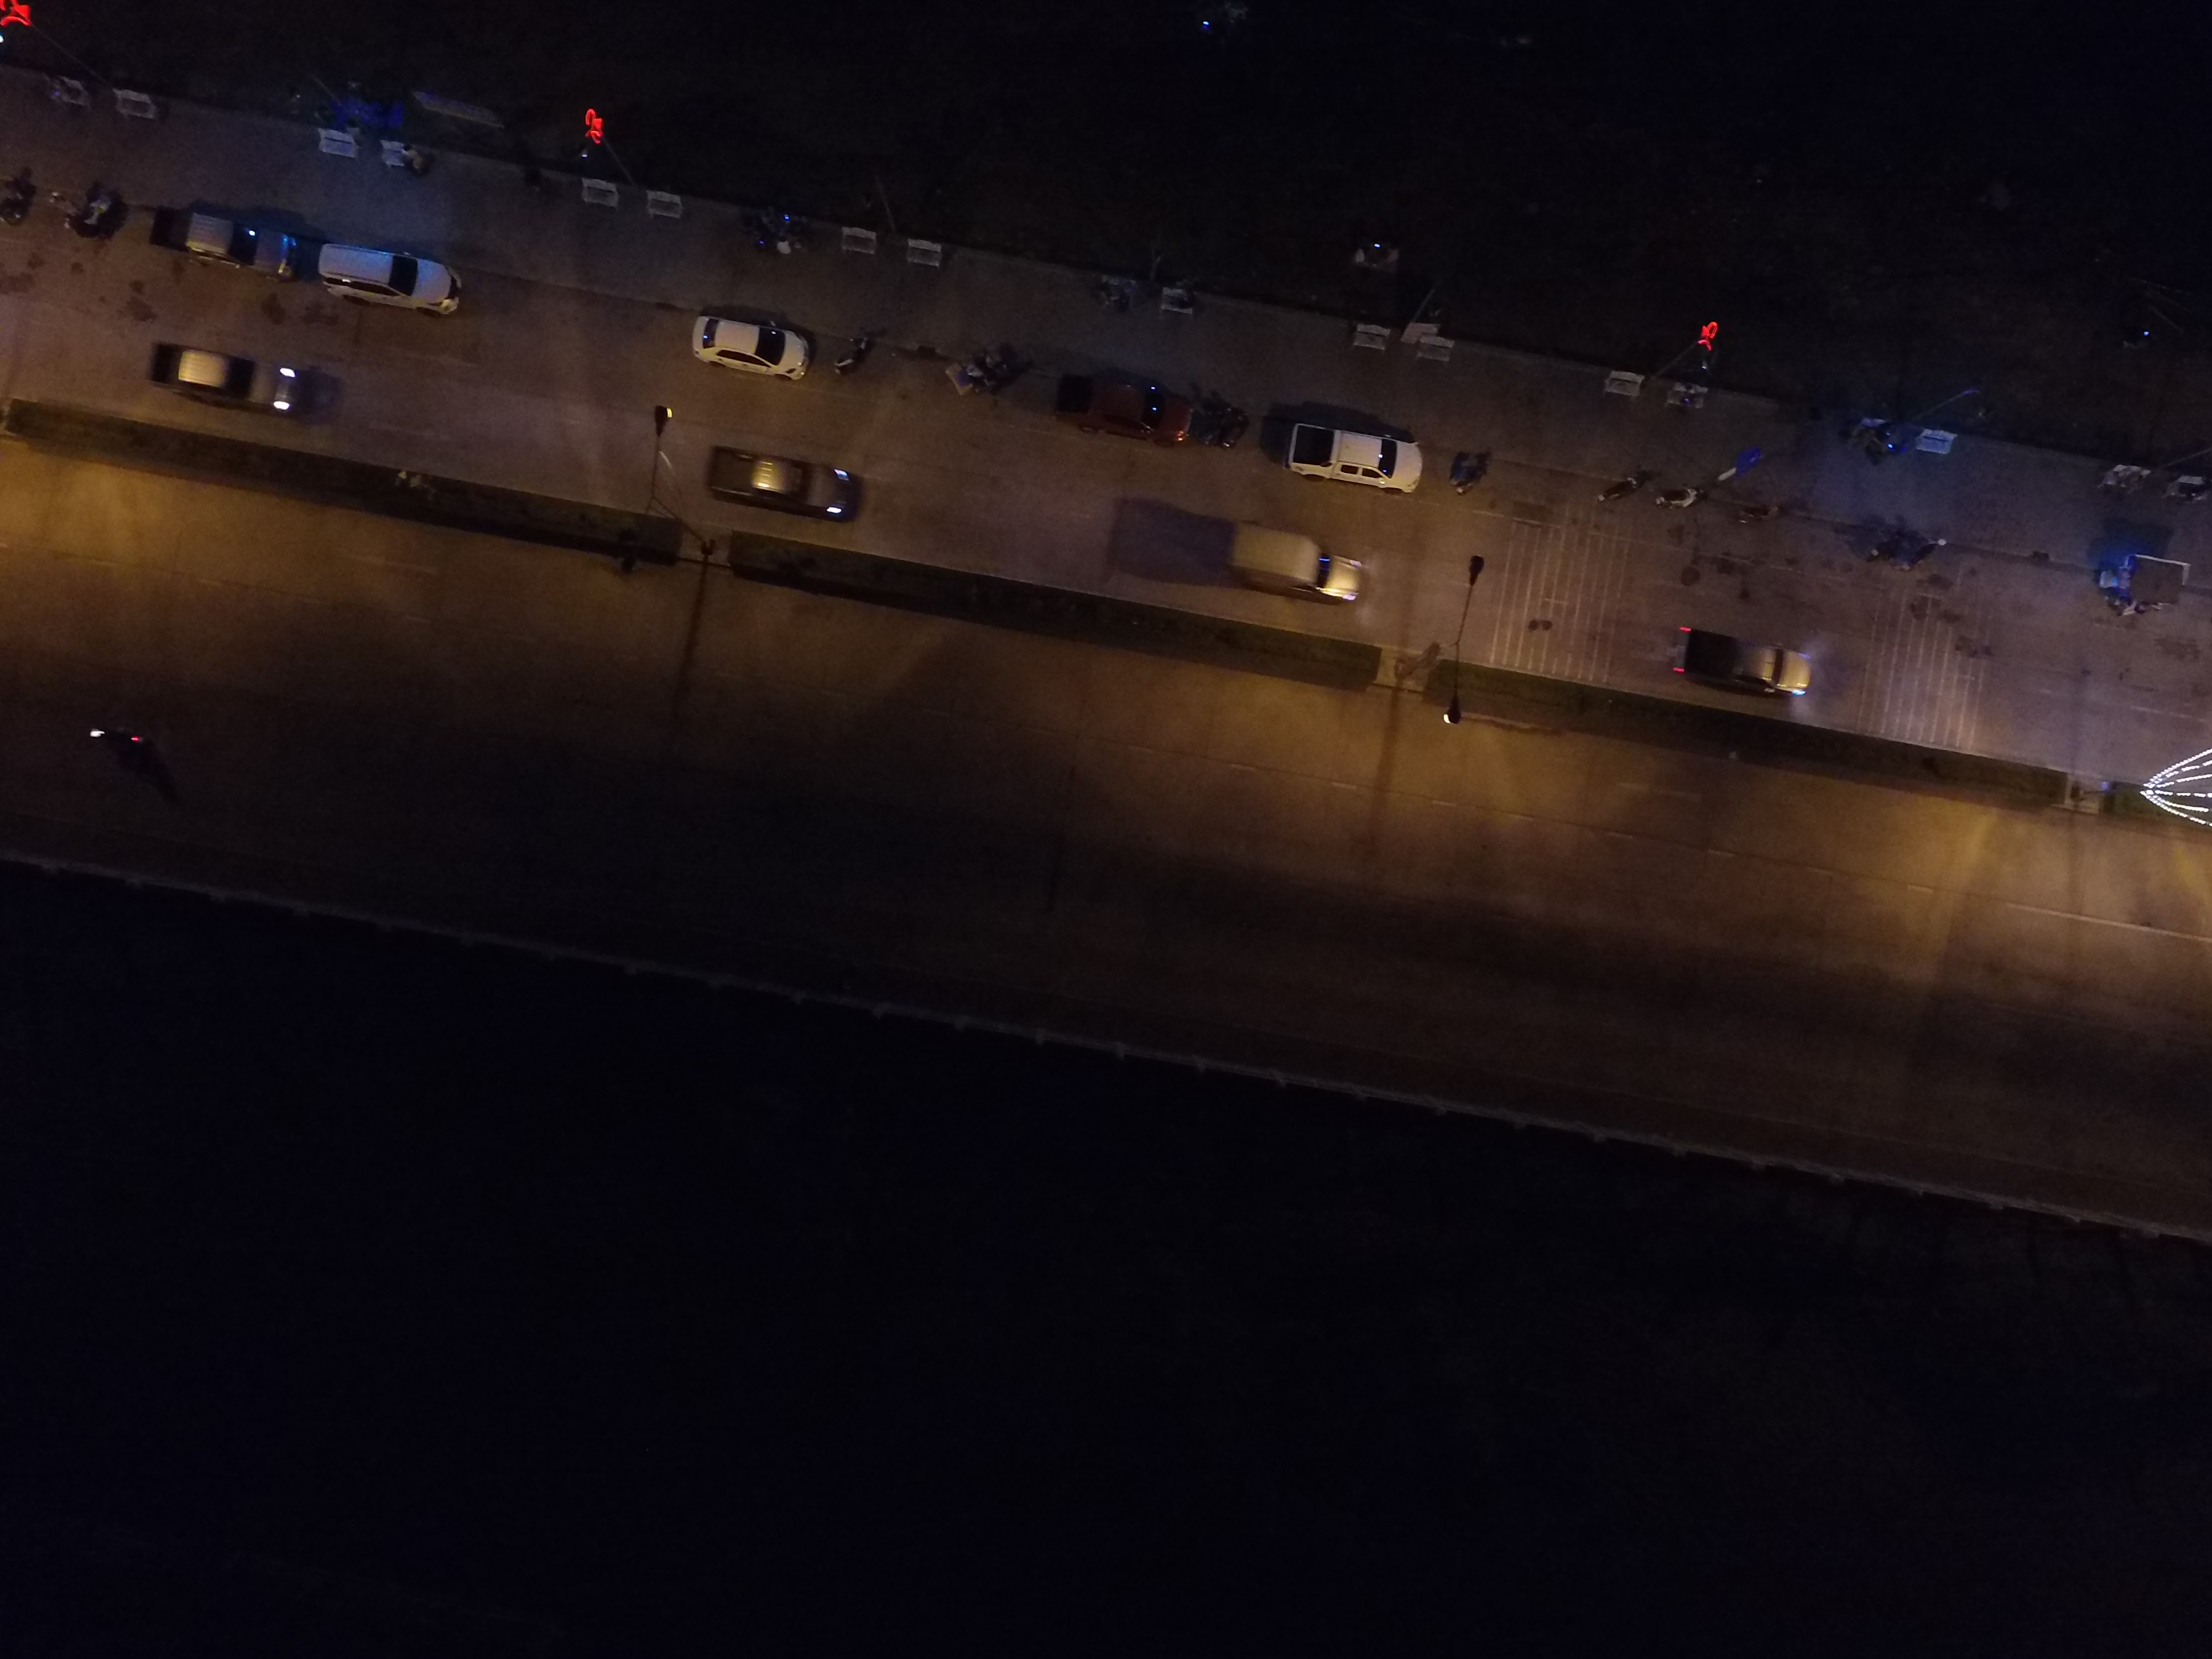car: (131, 308, 320, 441), (303, 221, 465, 342), (1271, 397, 1433, 518), (1057, 357, 1219, 477), (669, 282, 829, 403), (141, 183, 301, 303), (1209, 507, 1369, 627), (1655, 594, 1815, 714), (700, 430, 860, 549)
